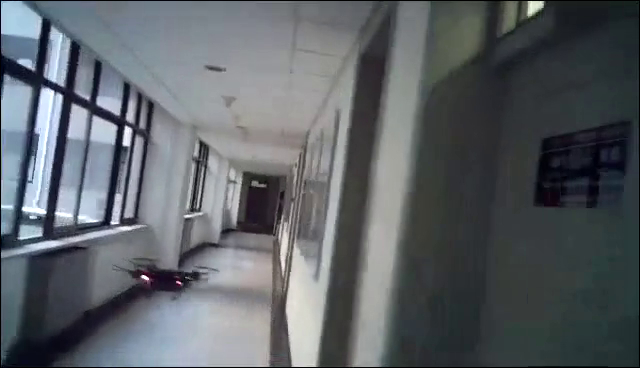drone: (109, 252, 222, 303)
